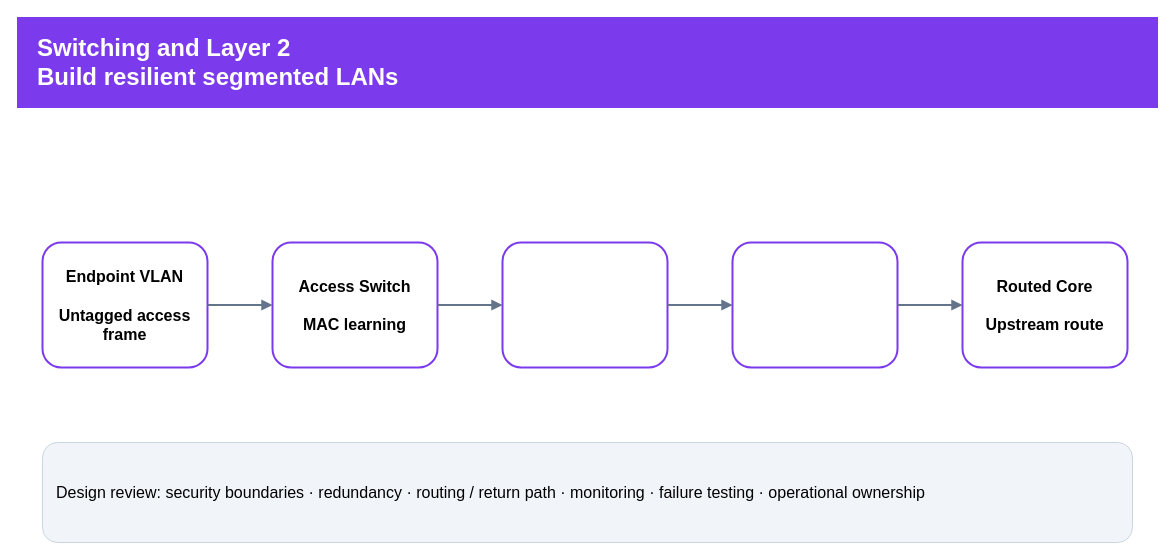
The diagram is 1175 pixels wide and 560 high, and some of its shapes have lost their labels. The centre of each missing label's shape, as x and y in pixels:
802.1Q Trunk Tagged VLAN frame: point 584,304
Distribution / SVI Inter-VLAN routing: point 814,304
